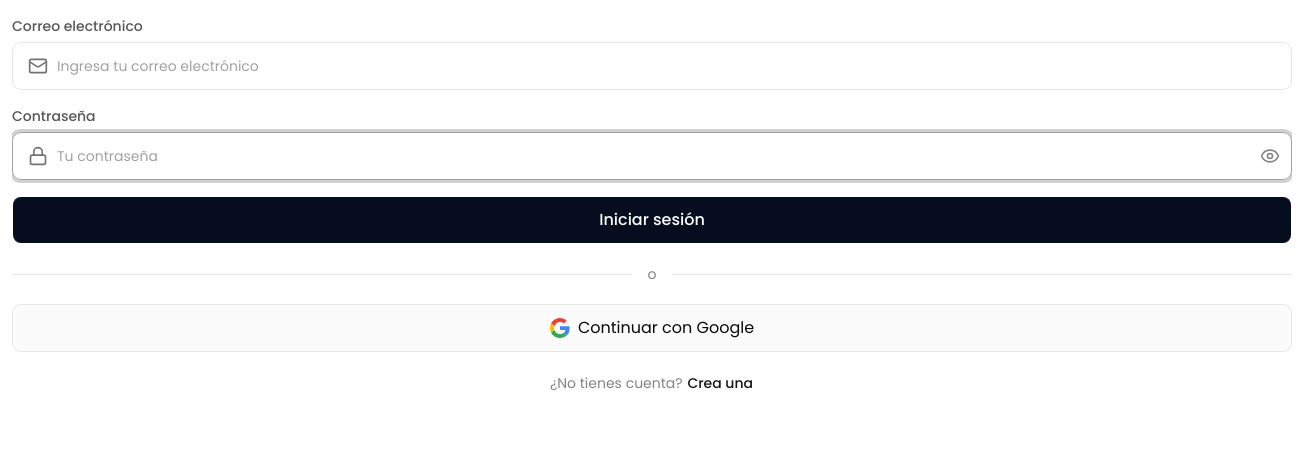
Test: submitting › shows a failed sign-in generically, without confirming the address
The image size is (1304, 468).
Type "ana@ejemplo.com" into the field labelled "Correo electrónico" at (652, 66), box x1=12 y1=42 x2=1292 y2=90
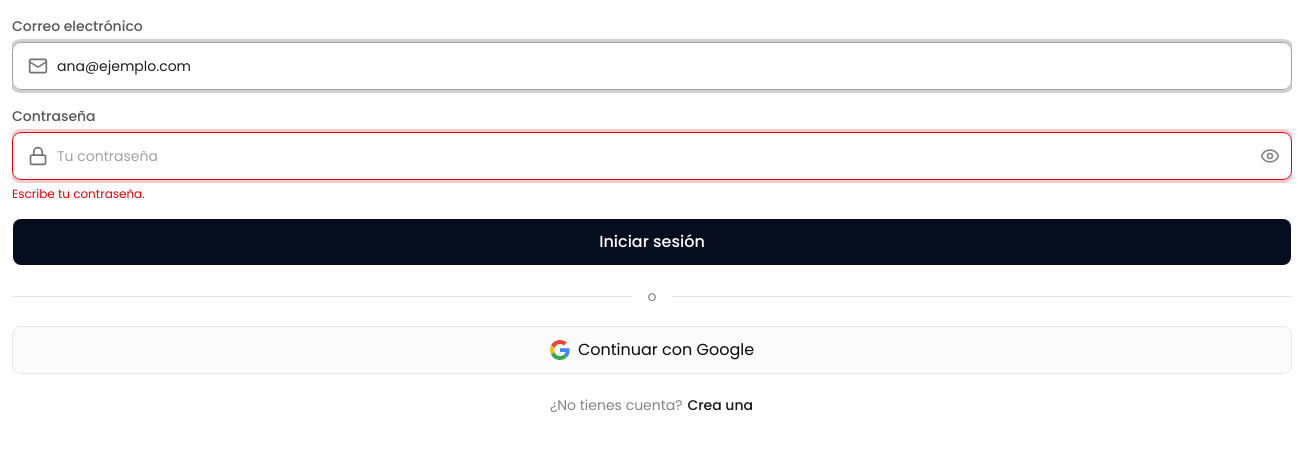
Type "loquesea" into the password field labelled "Contraseña" at (652, 156), box x1=12 y1=132 x2=1292 y2=180
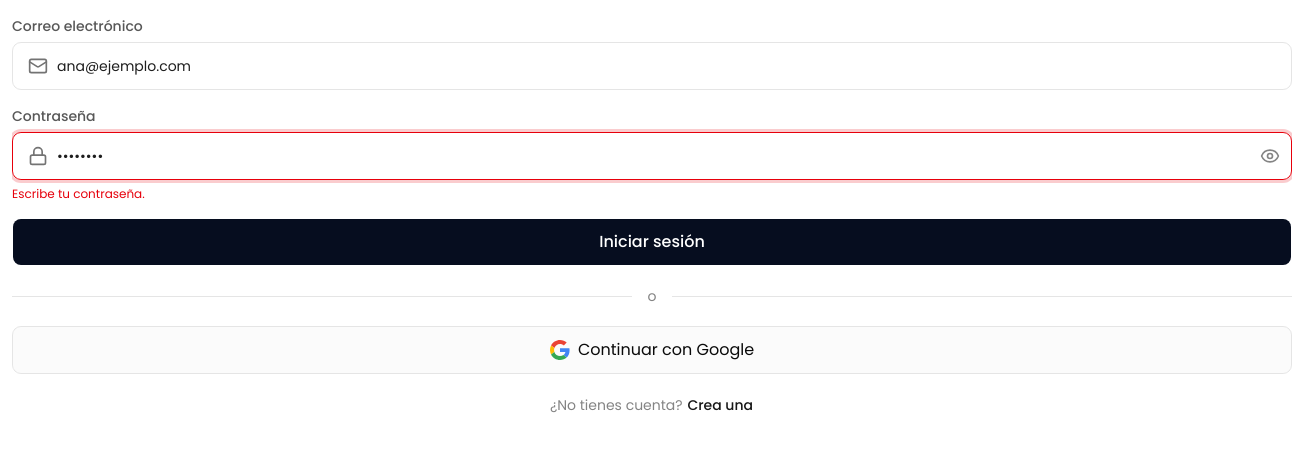
Click the button "Iniciar sesión" at (652, 242), box x1=12 y1=218 x2=1292 y2=266
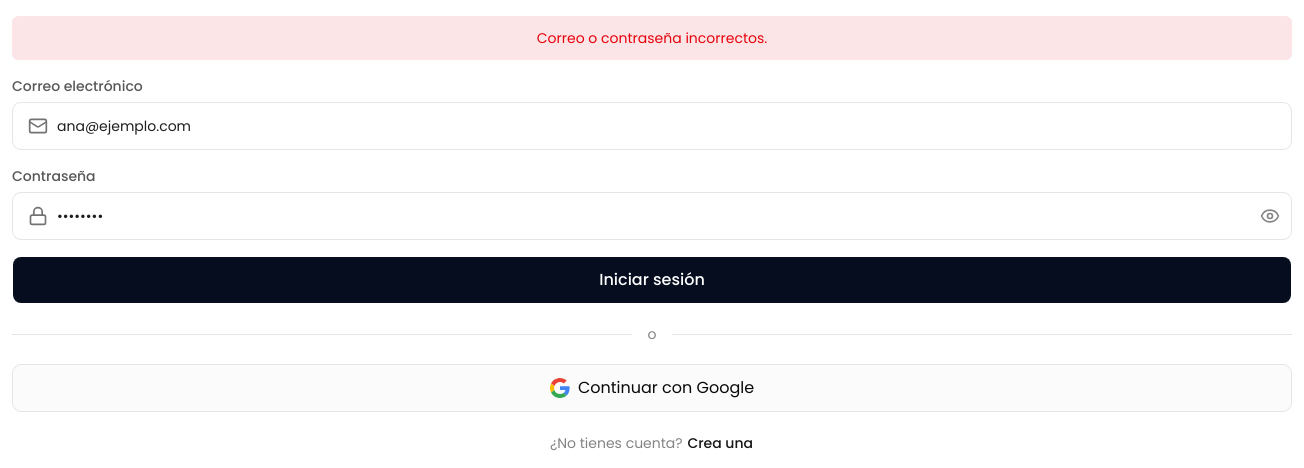
Now the message reads "Correo o contraseña incorrectos.", box x1=537 y1=28 x2=767 y2=48
